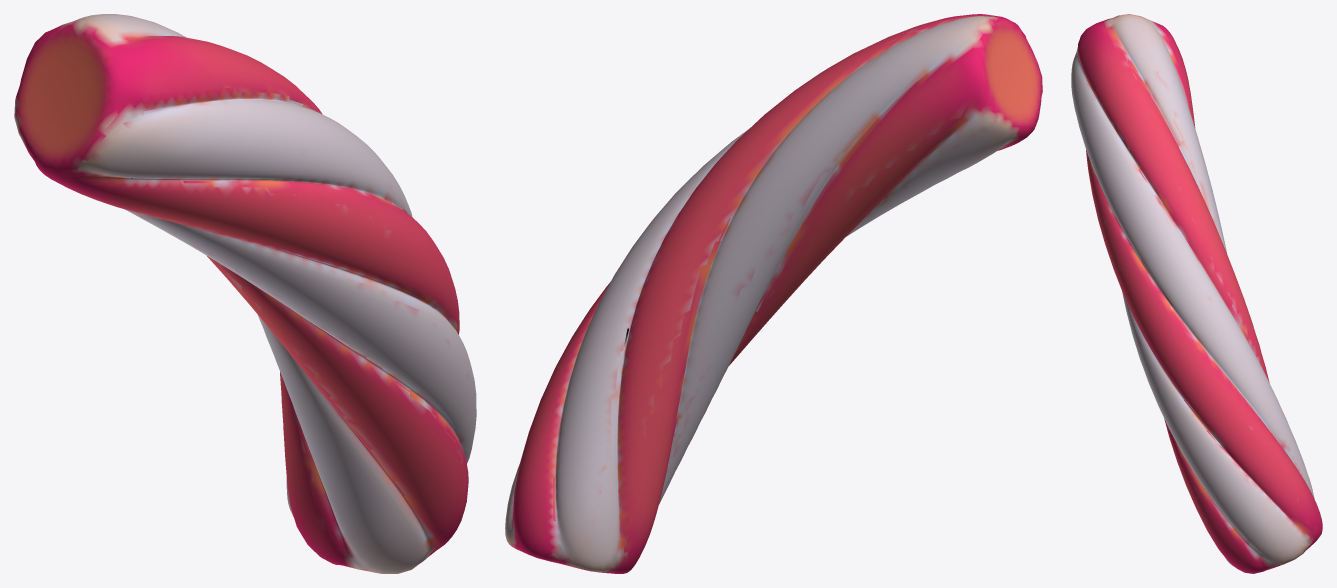
The model's file is twister_004.obj.
The picture shows the model from 3 angles, left to right: view 1: azimuth 30°, elevation 25°; view 2: azimuth 150°, elevation 25°; view 3: azimuth 270°, elevation 25°; orthographic projection. The views are drawn at different scales.
Parts seen in each view (by area): view 1: twister.004; view 2: twister.004; view 3: twister.004.
Part boxes in pixels (bbox=[...]): twister.004: bbox=[14, 14, 476, 573]; twister.004: bbox=[505, 14, 1042, 573]; twister.004: bbox=[1071, 14, 1322, 573].
Bounding box in the file's own units: 1.03 × 1.31 × 0.6913.
1 material, 1 textured.
